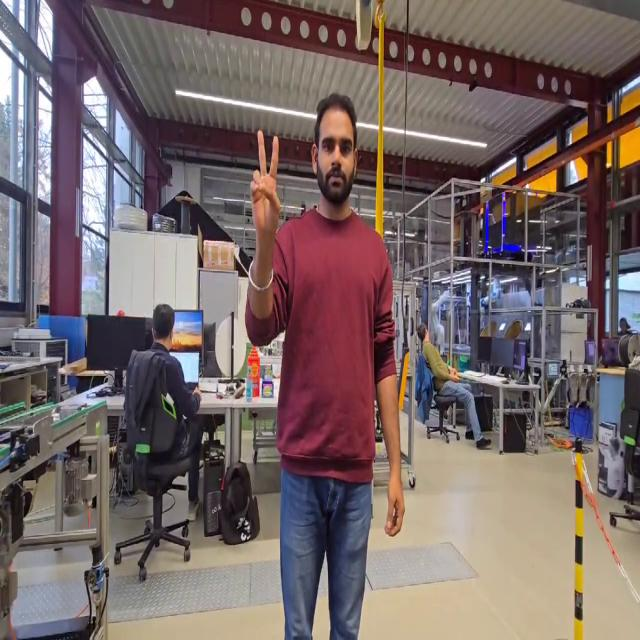v_sign: (248, 126, 283, 238)
